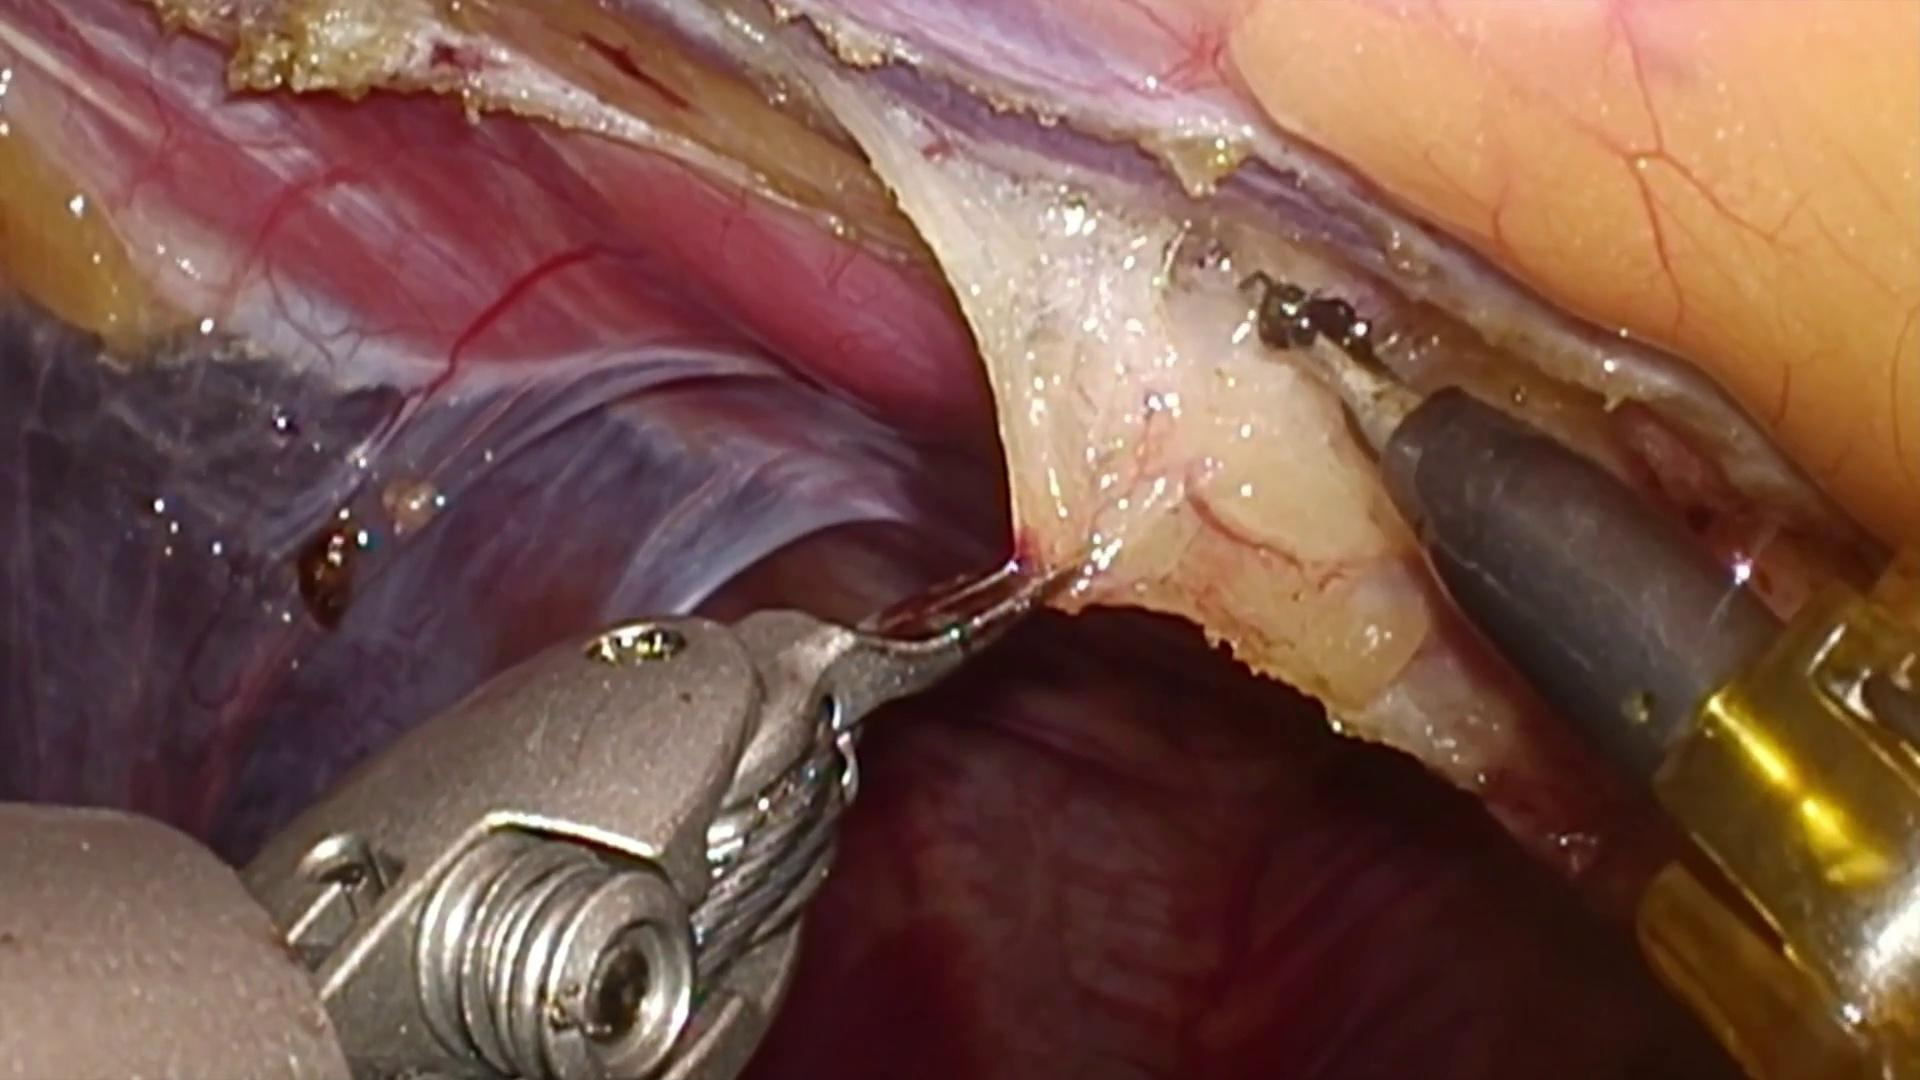Cautery_Spatula: (1251, 285, 1783, 796)
Debakey: (740, 542, 1081, 775)
